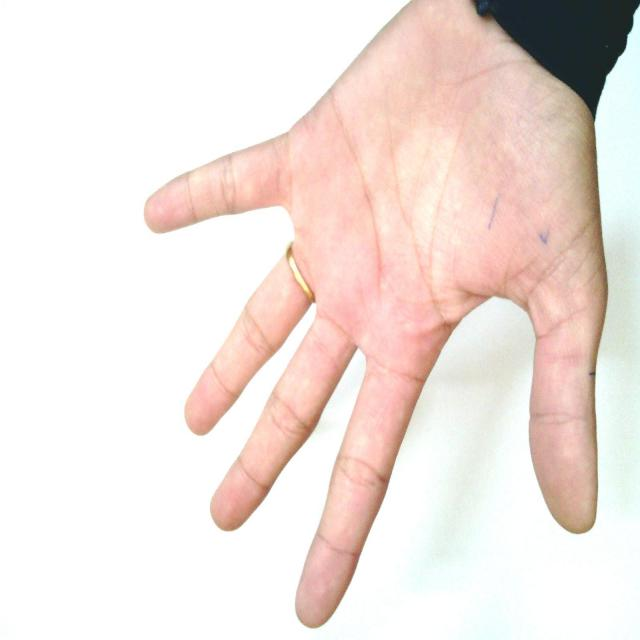others: (97, 1, 627, 630)
